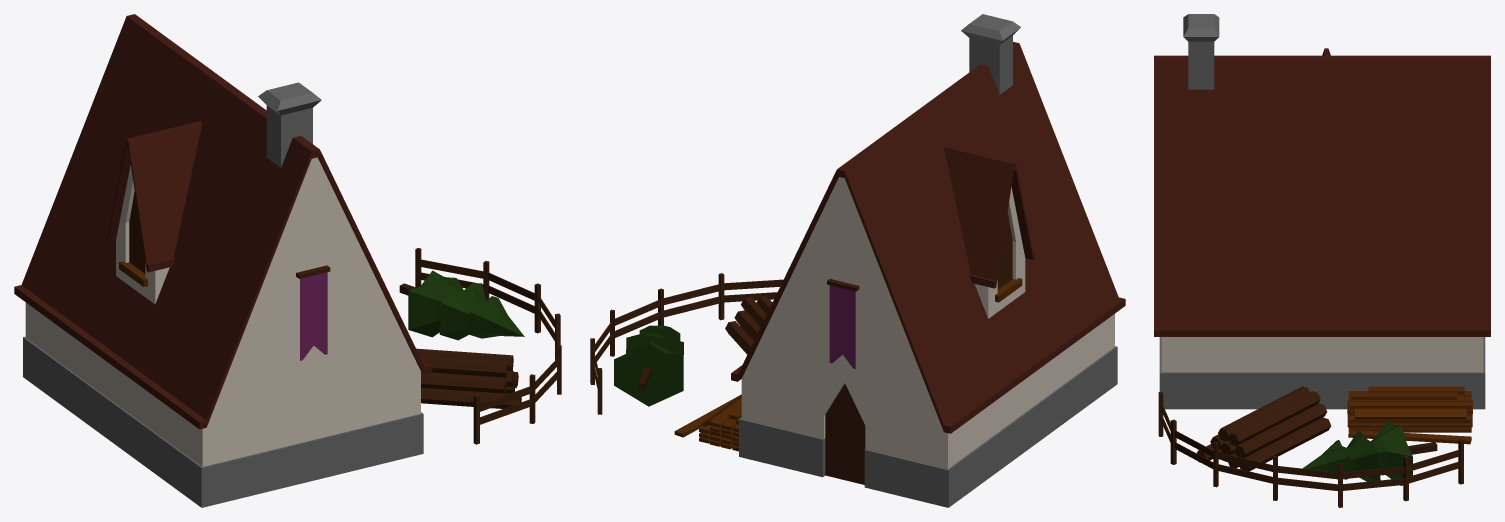
The model's file is LogHutv2.fbx.
3 renders of one model, left to right at view 1: azimuth 30°, elevation 25°; view 2: azimuth 150°, elevation 25°; view 3: azimuth 270°, elevation 25°, orthographic. The views are drawn at different scales.
Visible parts, largest first — view 1: Plane.440; view 2: Plane.440; view 3: Plane.440.
Part boxes in pixels (x1,y1,x2,y2): Plane.440: [14, 14, 561, 507]; Plane.440: [590, 14, 1125, 507]; Plane.440: [1154, 14, 1490, 507].
Size of the model in its own units: 249 by 208 by 180.
